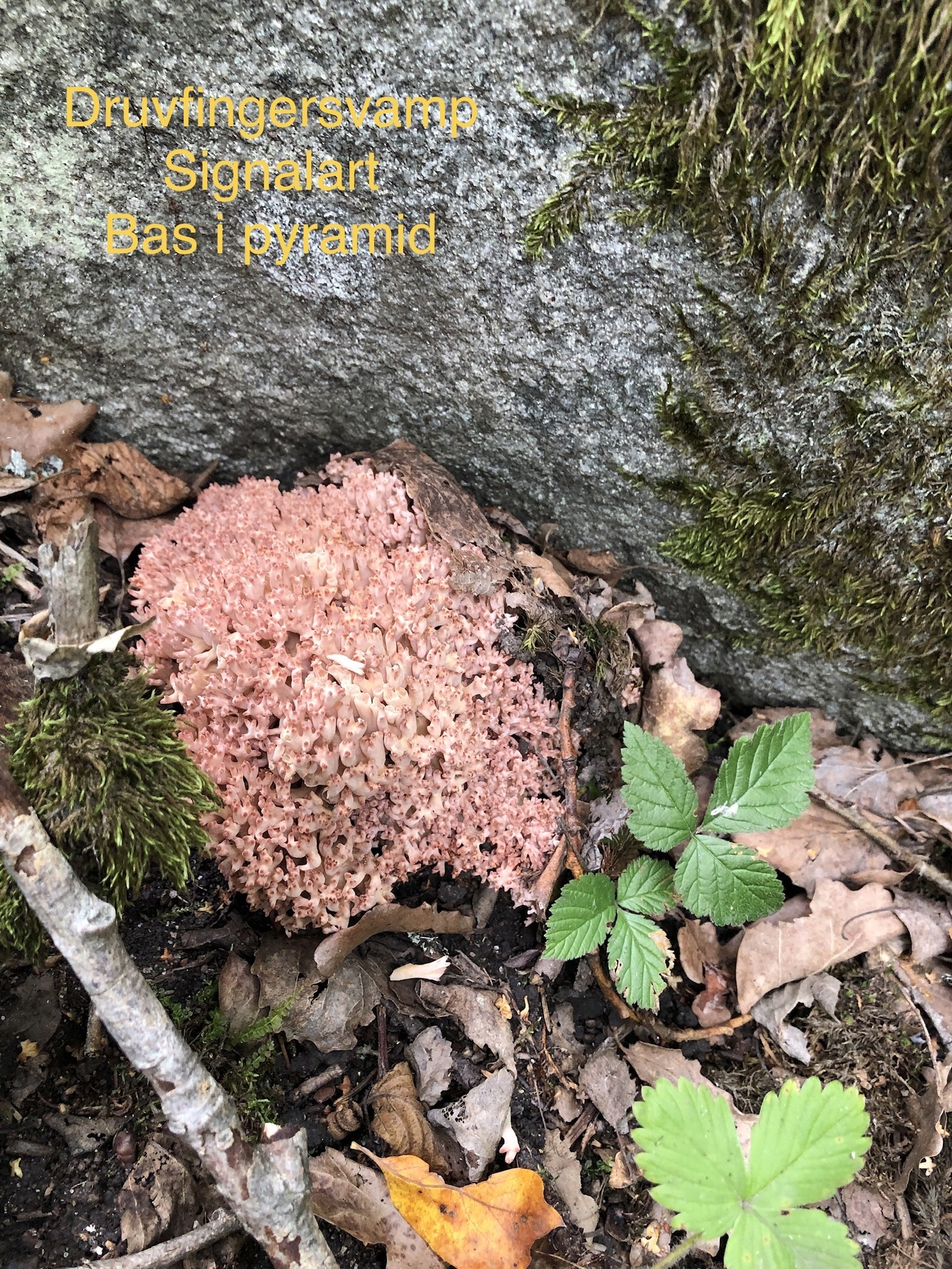Coral: (133, 459, 557, 931)
